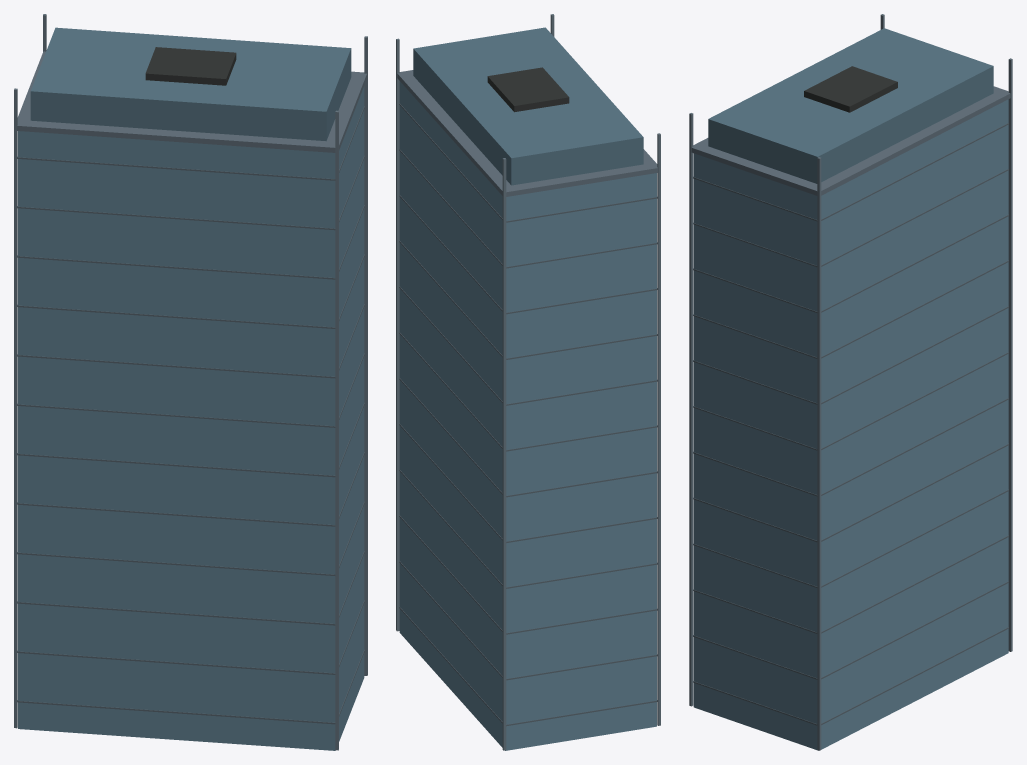
The model's file is costar-tower.glb.
The picture shows the model from 3 angles, left to right: view 1: azimuth 30°, elevation 25°; view 2: azimuth 150°, elevation 25°; view 3: azimuth 270°, elevation 25°; orthographic projection. The views are drawn at different scales.
Parts seen in each view (by area): view 1: curtain-wall-tower; view 2: curtain-wall-tower; view 3: curtain-wall-tower.
Boxes of the visible parts, left/top/right/bottom form: curtain-wall-tower: left=14, top=14, right=367, bottom=750; curtain-wall-tower: left=396, top=14, right=660, bottom=750; curtain-wall-tower: left=689, top=14, right=1012, bottom=750.
Bounding box in the file's own units: 81.31 × 156 × 76.78.
